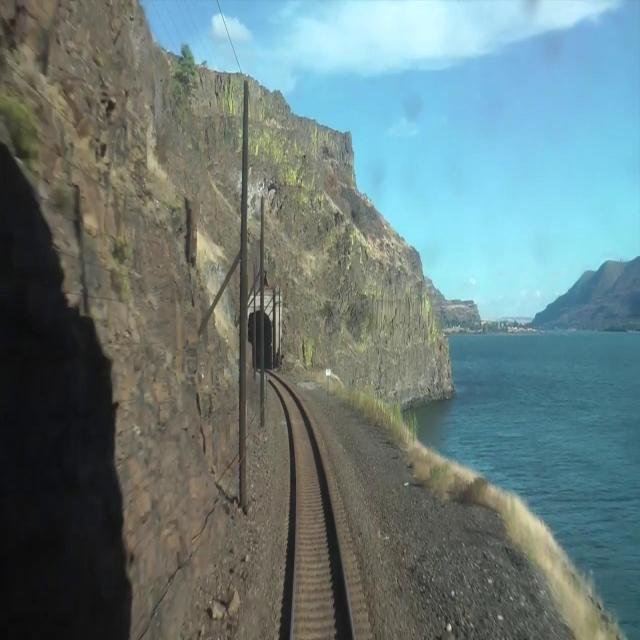rail-track: (271, 376, 351, 639)
